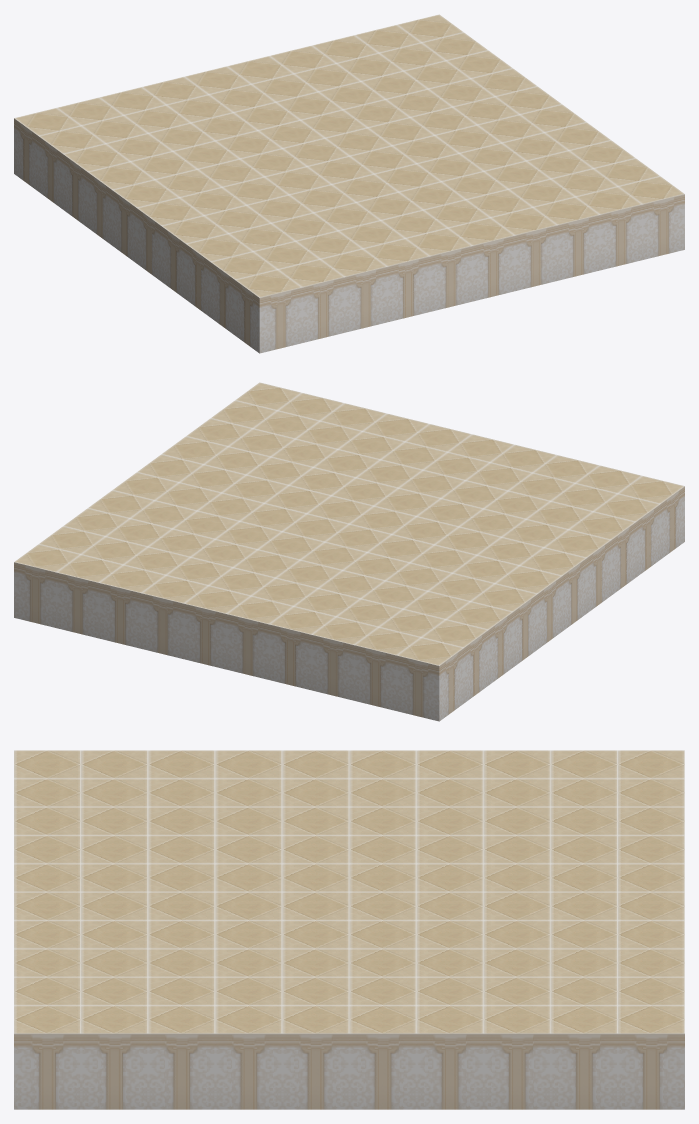
Rendered from Normal.fbx.
3 views of the same model, one above another, from view 1: azimuth 30°, elevation 25°; view 2: azimuth 150°, elevation 25°; view 3: azimuth 270°, elevation 25° (orthographic). The views are drawn at different scales.
Parts seen in each view (by area): view 1: Terrain; view 2: Terrain; view 3: Terrain.
Part boxes in pixels (x1=…): Terrain: x1=14, y1=14, x2=684, y2=353; Terrain: x1=14, y1=382, x2=684, y2=721; Terrain: x1=14, y1=750, x2=684, y2=1109.
Bounding box in the file's own units: 10 × 1.25 × 10.
1 material, 1 textured.
